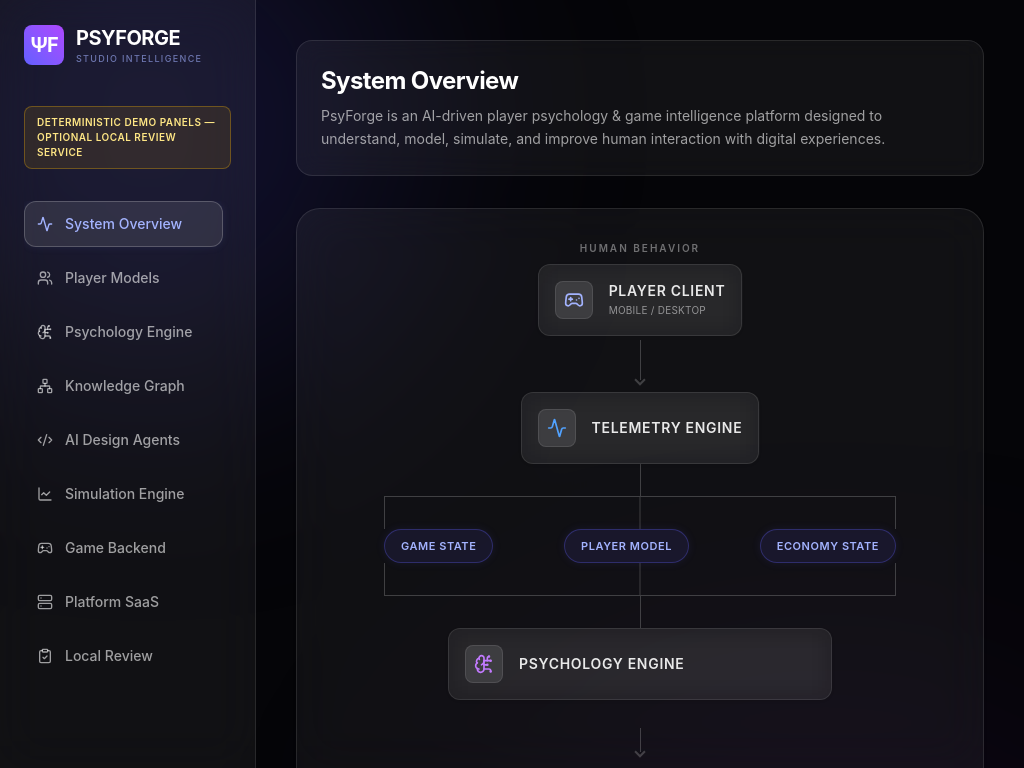
Test case: App Component › labels the demonstration panels and exposes the local-review surface
Check: the text "Deterministic demo panels — optional local review service" is shown, box [24,106,231,168]
Click the button "Local Review".
click(124, 656)  # box [24,632,223,678]
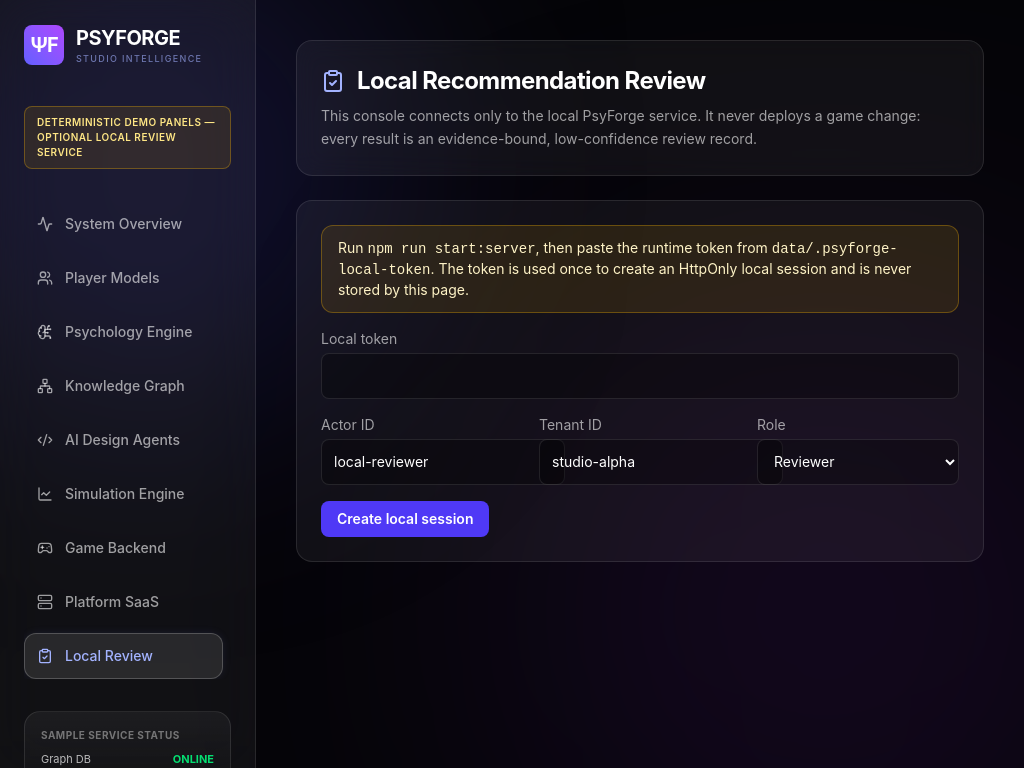
Check: the heading "Local Recommendation Review" is shown, box [357,65,706,97]
